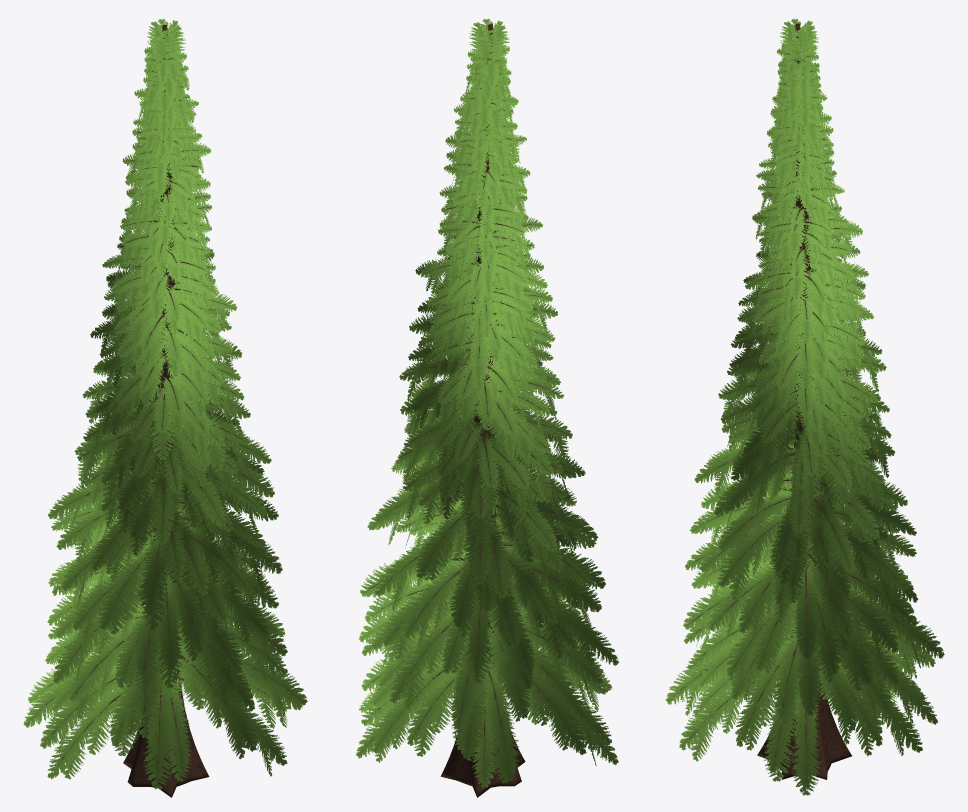
File: baldcypress_v01.fbx
The picture shows the model from 3 angles, left to right: view 1: azimuth 30°, elevation 25°; view 2: azimuth 150°, elevation 25°; view 3: azimuth 270°, elevation 25°; orthographic projection. The views are drawn at different scales.
Parts seen in each view (by area): view 1: baldcypress_v01; view 2: baldcypress_v01; view 3: baldcypress_v01.
Part boxes in pixels (left/top/right/bottom): baldcypress_v01: left=23, top=19, right=307, bottom=797; baldcypress_v01: left=356, top=18, right=618, bottom=797; baldcypress_v01: left=665, top=18, right=944, bottom=795.
Bounding box in the file's own units: 813 × 803 × 2220.
2 materials, 2 textured.
